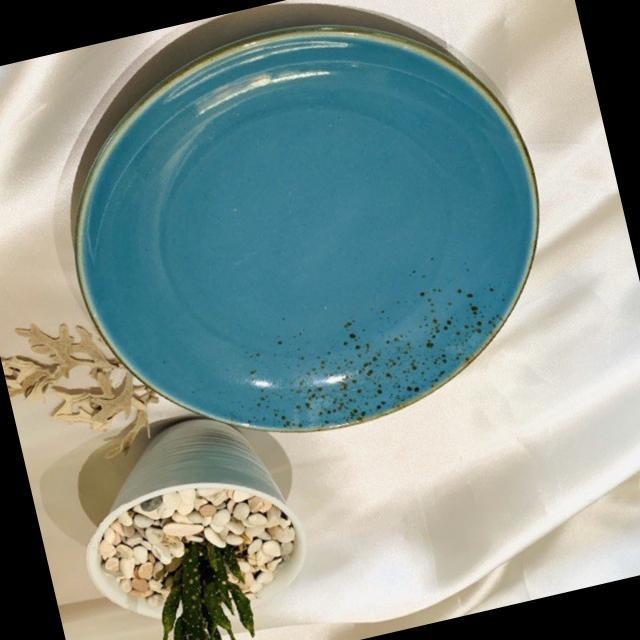plate: (28, 0, 593, 486)
